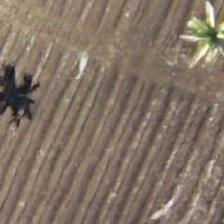Kelapa_Sawit: (162, 0, 224, 86)
